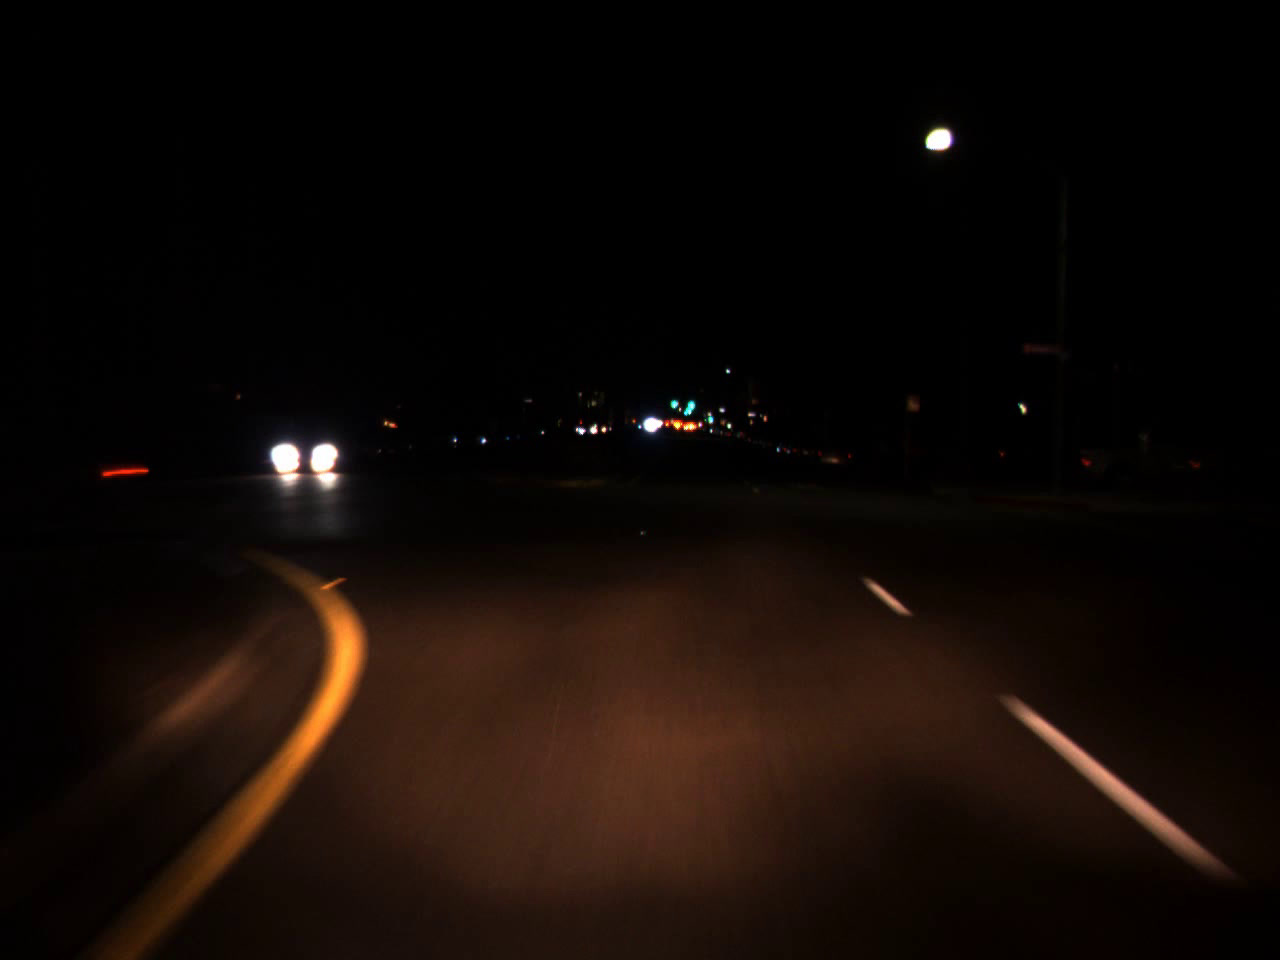go: (681, 390, 695, 414), (669, 393, 678, 408), (706, 407, 713, 425)
